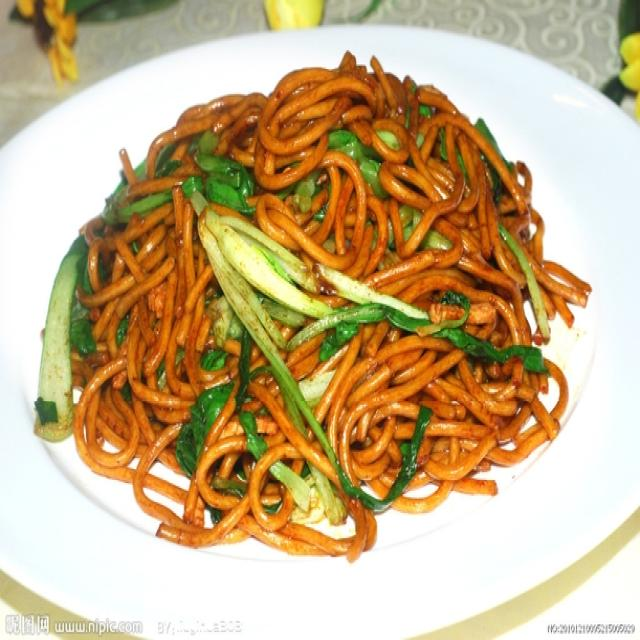面条主食: (27, 47, 610, 591)
